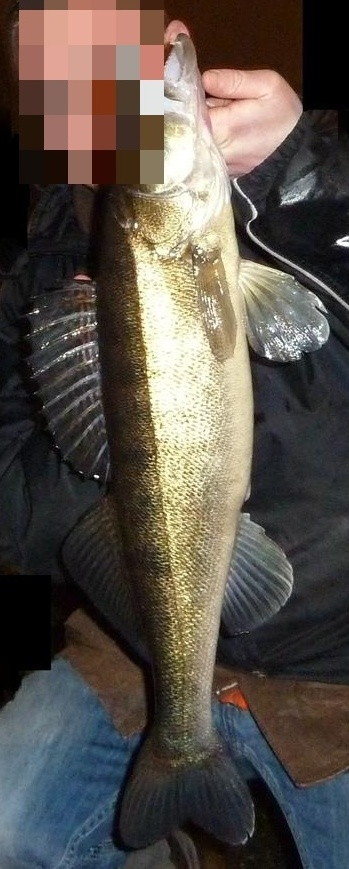Sander lucioperca: (20, 20, 329, 849)
